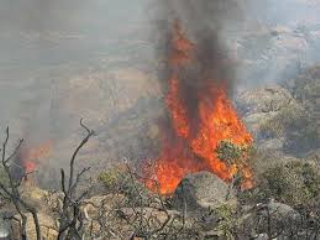fire: (162, 110, 263, 181)
smoke: (157, 6, 255, 108)
